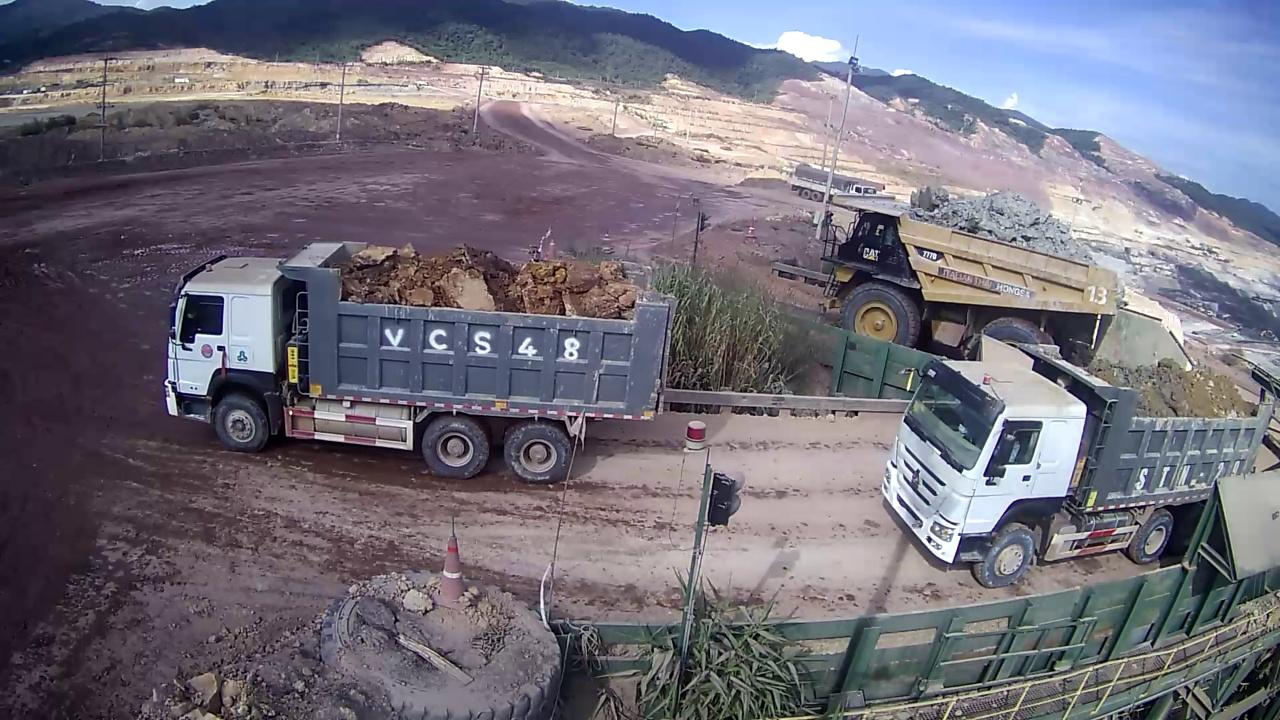company: (934, 262, 1044, 302)
full_load: (916, 173, 1072, 241)
mining_truck: (813, 168, 1130, 370)
tail_number: (1081, 280, 1112, 310)
truck_size: (911, 241, 947, 264)
